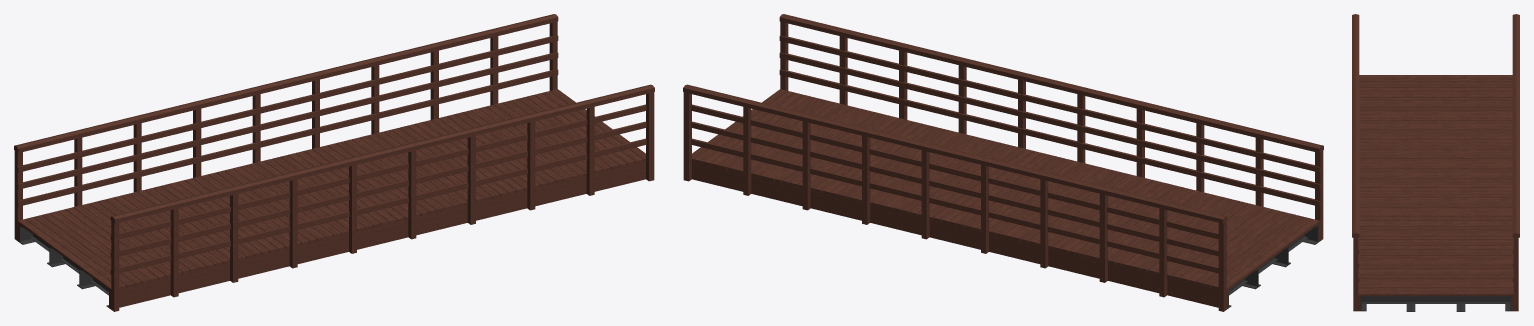
The model's file is Beam_TimberD.glb.
3 views of the same model, side by side, from view 1: azimuth 30°, elevation 25°; view 2: azimuth 150°, elevation 25°; view 3: azimuth 270°, elevation 25° (orthographic). The views are drawn at different scales.
Bounding box in the file's own units: 10 × 1.68 × 3.23.
Materials: 2 (1 with a texture image).
